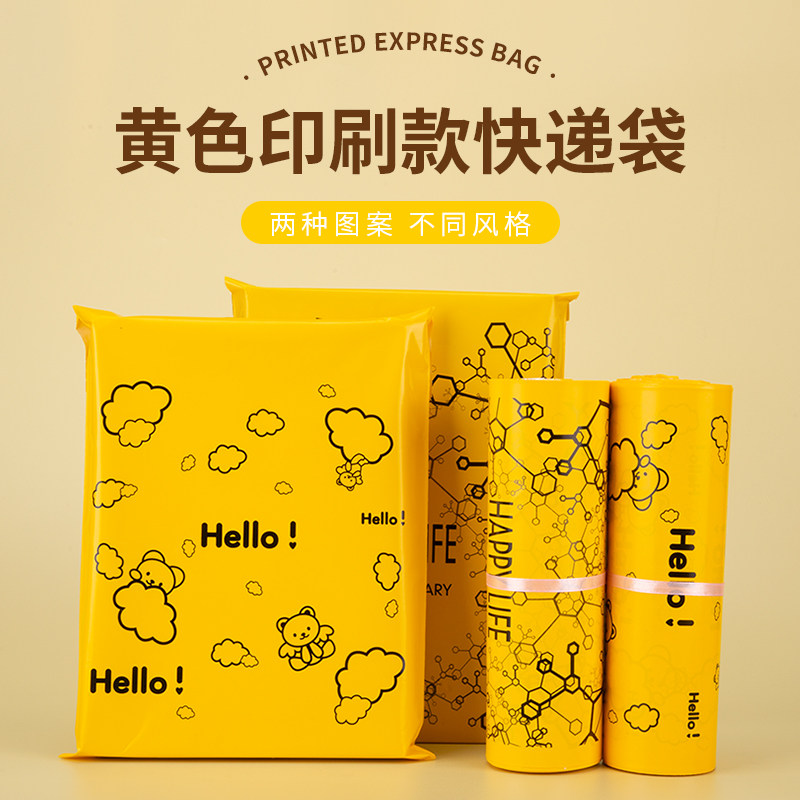Parcel: (226, 278, 577, 743), (75, 307, 429, 758), (604, 376, 732, 775), (486, 380, 609, 773)
